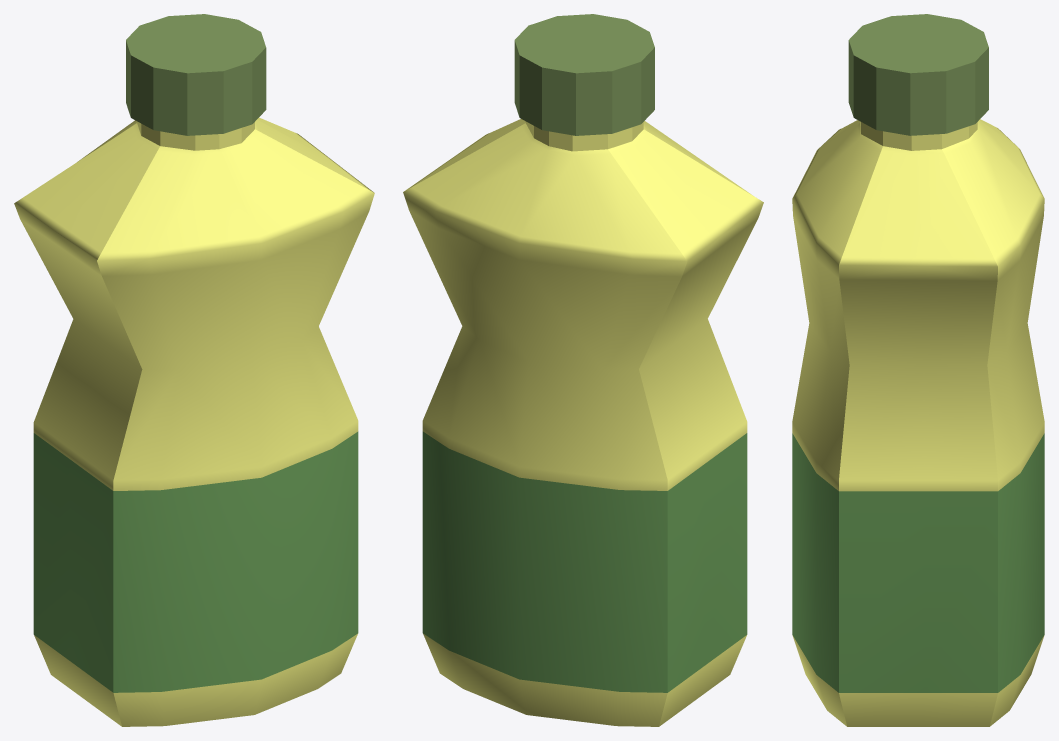
Rendered from Oil_bottle.fbx.
3 renders of one model, left to right at view 1: azimuth 30°, elevation 25°; view 2: azimuth 150°, elevation 25°; view 3: azimuth 270°, elevation 25°, orthographic.
Parts seen in each view (by area): view 1: Bottle_obj, Top_obj; view 2: Bottle_obj, Top_obj; view 3: Bottle_obj, Top_obj.
Boxes of the visible parts, x1,y1,x2,y2 form: Bottle_obj: [14, 117, 374, 726]; Top_obj: [126, 14, 266, 135]; Bottle_obj: [403, 119, 763, 726]; Top_obj: [514, 14, 654, 135]; Bottle_obj: [792, 119, 1044, 726]; Top_obj: [848, 14, 988, 135].
Bounding box in the file's own units: 2.68 × 5.67 × 2.06.
